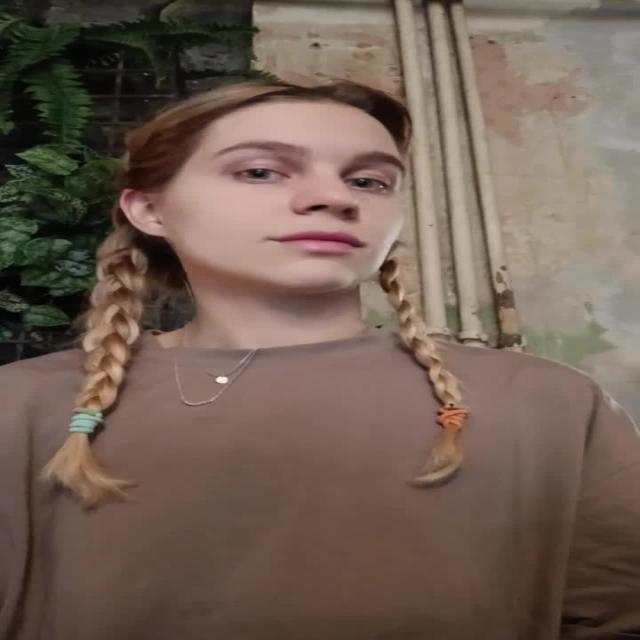earlobe: (144, 220, 168, 238)
eye: (232, 167, 290, 183), (345, 174, 392, 193)
nose: (296, 208, 359, 233)
wholeear: (119, 188, 169, 237)
